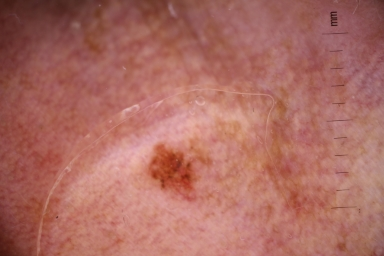nevus: (146, 142, 198, 200)
